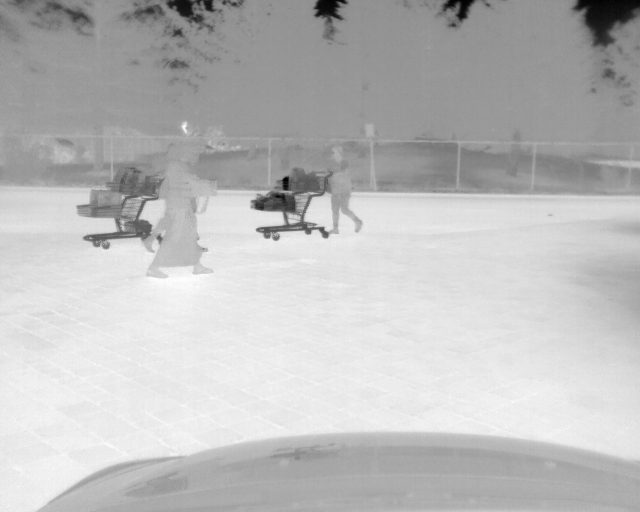people: (146, 138, 215, 278), (323, 144, 363, 235)
